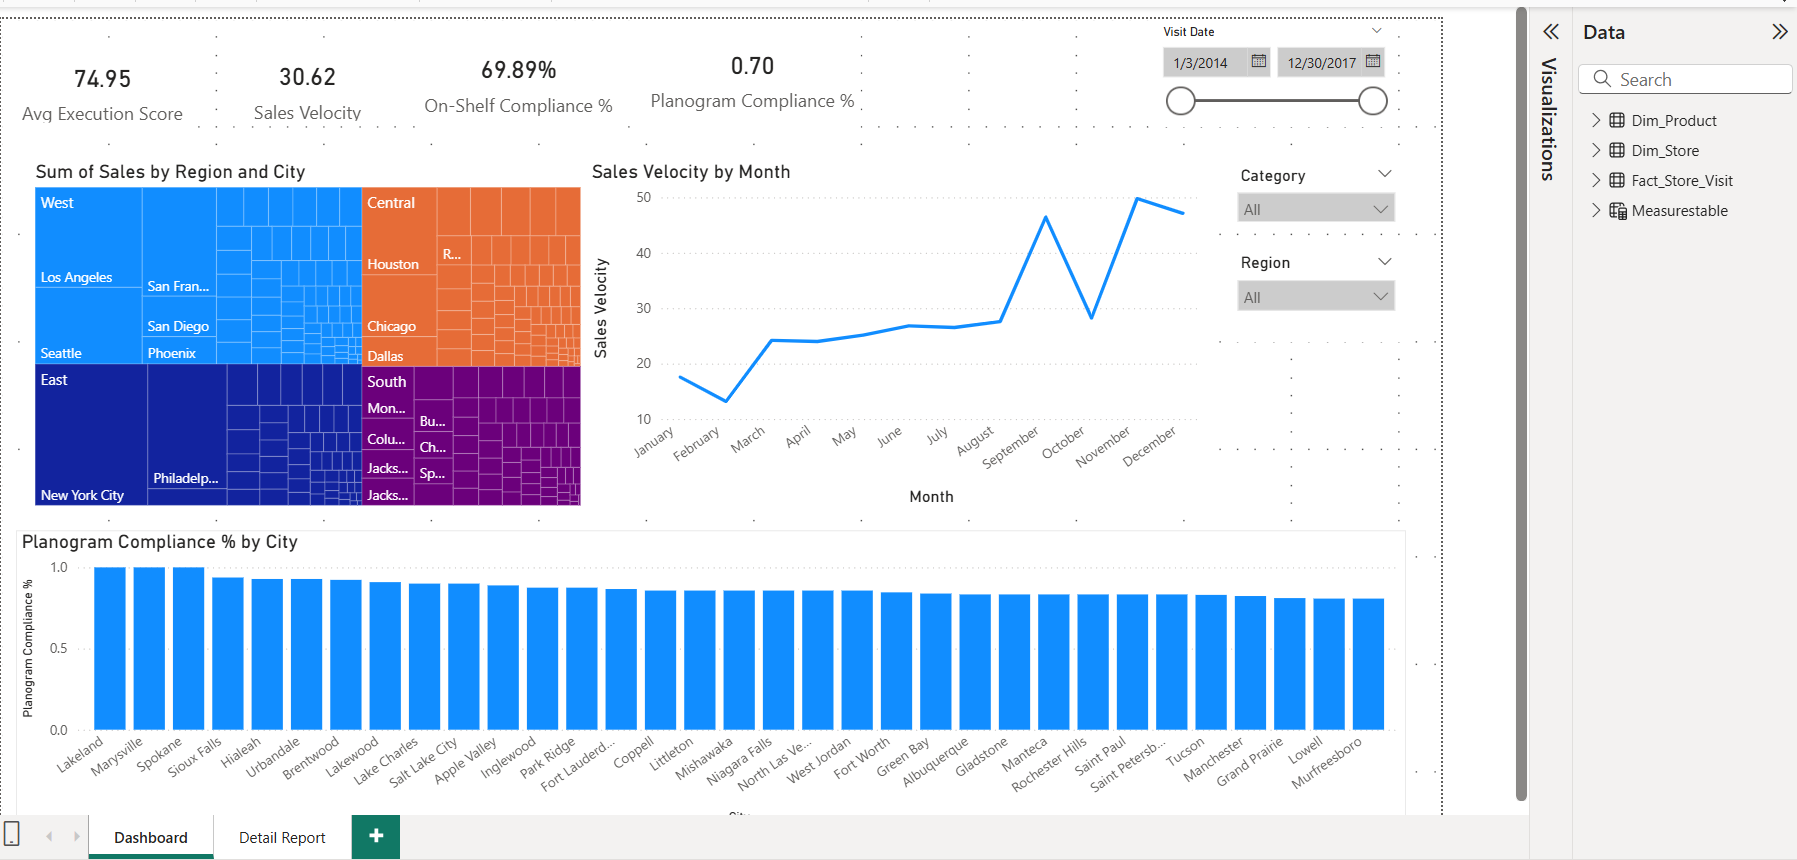

Layout of this report page (visuals, bound fields, positions):
{"tool":"powerbi","page":{"name":"Dashboard","canvas":[1280,720],"ordinal":0},"visuals":[{"type":"card","fields":{"Values":["Measurestable.Avg Execution Score"]},"box":[13.7,28.6,154.3,68.6],"z":0},{"type":"card","fields":{"Values":["Measurestable.Sales Velocity"]},"box":[196.6,28.6,152,66.3],"z":1000},{"type":"card","fields":{"Values":["Measurestable.On-Shelf Compliance %"]},"box":[371.4,5.7,178.3,100.6],"z":2000},{"type":"card","fields":{"Values":["Measurestable.Planogram Compliance %"]},"box":[572.6,0,192,104],"z":3000},{"type":"lineChart","fields":{"Y":["Measurestable.Sales Velocity"],"Category":["Fact_Store_Visit.Visit Date.Variation.Date Hierarchy.Month"]},"box":[520,125.7,552,312],"z":4000},{"type":"clusteredColumnChart","fields":{"Y":["Measurestable.Planogram Compliance %"],"Category":["Dim_Store.City"]},"box":[13.7,454.9,1235.4,266.3],"z":5000},{"type":"slicer","fields":{"Values":["Dim_Product.Category"]},"box":[1089.2,125.6,160,54.5],"z":6000},{"type":"slicer","fields":{"Values":["Fact_Store_Visit.Visit Date"]},"box":[1020.4,0,220.4,94.8],"z":7000},{"type":"slicer","fields":{"Values":["Dim_Store.Region"]},"box":[1089.2,203.9,160,84.1],"z":8000},{"type":"treemap","fields":{"Group":["Dim_Store.Region"],"Details":["Dim_Store.City"],"Values":["Sum(Fact_Store_Visit.Sales)"]},"box":[25.1,125.7,494.9,312],"z":9000}]}

Visuals, with their boxes on the page's 1280x720 design canvas (x1, y1, x2, y2). These are canvas units, not pixel positions in the 1797x860 screenshot, which may show the page scaled, cropped or inside an application window:
card - Measurestable.Avg Execution Score: (14,29,168,97)
card - Measurestable.Sales Velocity: (197,29,349,95)
card - Measurestable.On-Shelf Compliance %: (371,6,550,106)
card - Measurestable.Planogram Compliance %: (573,0,765,104)
lineChart - Measurestable.Sales Velocity x Fact_Store_Visit.Visit Date.Variation.Date Hierarchy.Month: (520,126,1072,438)
clusteredColumnChart - Measurestable.Planogram Compliance % x Dim_Store.City: (14,455,1249,721)
slicer - Dim_Product.Category: (1089,126,1249,180)
slicer - Fact_Store_Visit.Visit Date: (1020,0,1241,95)
slicer - Dim_Store.Region: (1089,204,1249,288)
treemap - Dim_Store.Region x Dim_Store.City: (25,126,520,438)
